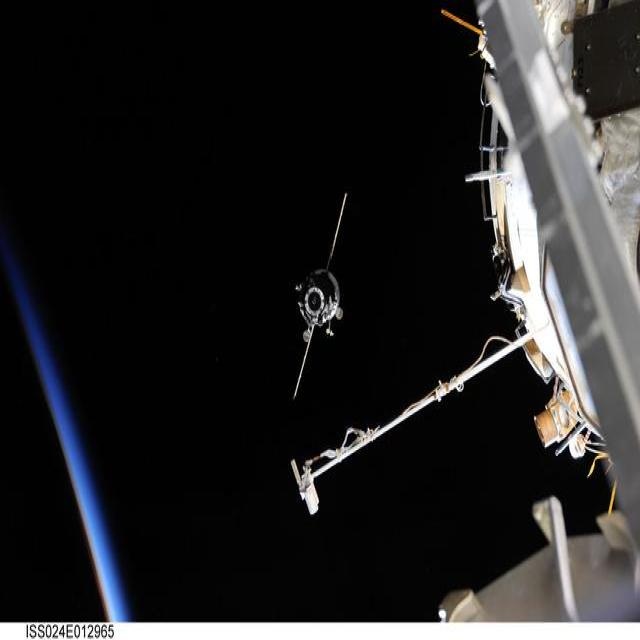medium_debris: (292, 0, 640, 622), (292, 192, 347, 399)
